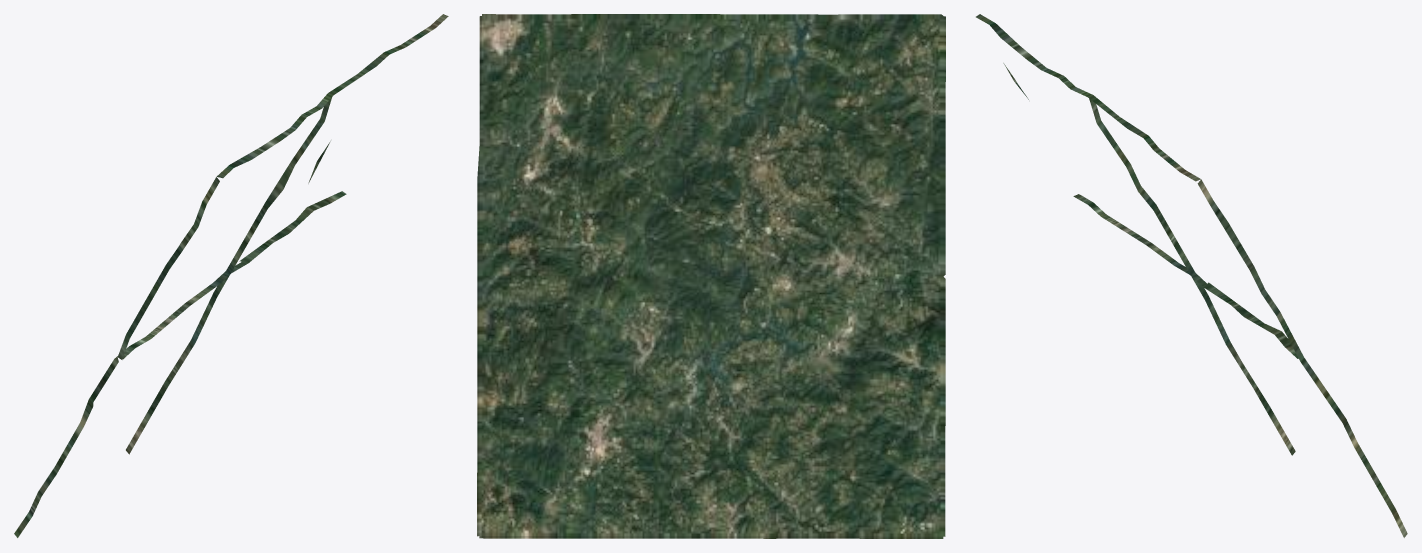
3 renders of one model, left to right at view 1: azimuth 30°, elevation 25°; view 2: azimuth 150°, elevation 25°; view 3: azimuth 270°, elevation 25°, orthographic. The views are drawn at different scales.
Size of the model in its own units: 79037 by 70265 by 67245.
Materials: 1 (1 with a texture image).
